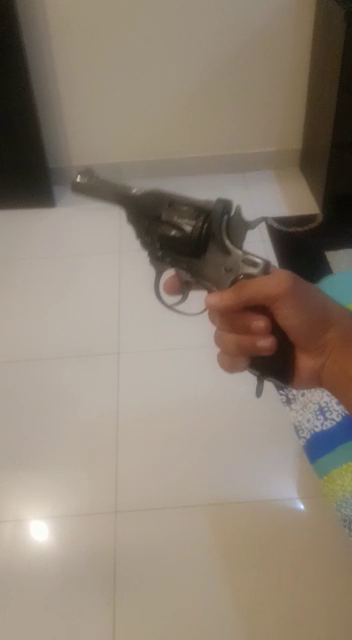handgun: (60, 154, 304, 387)
